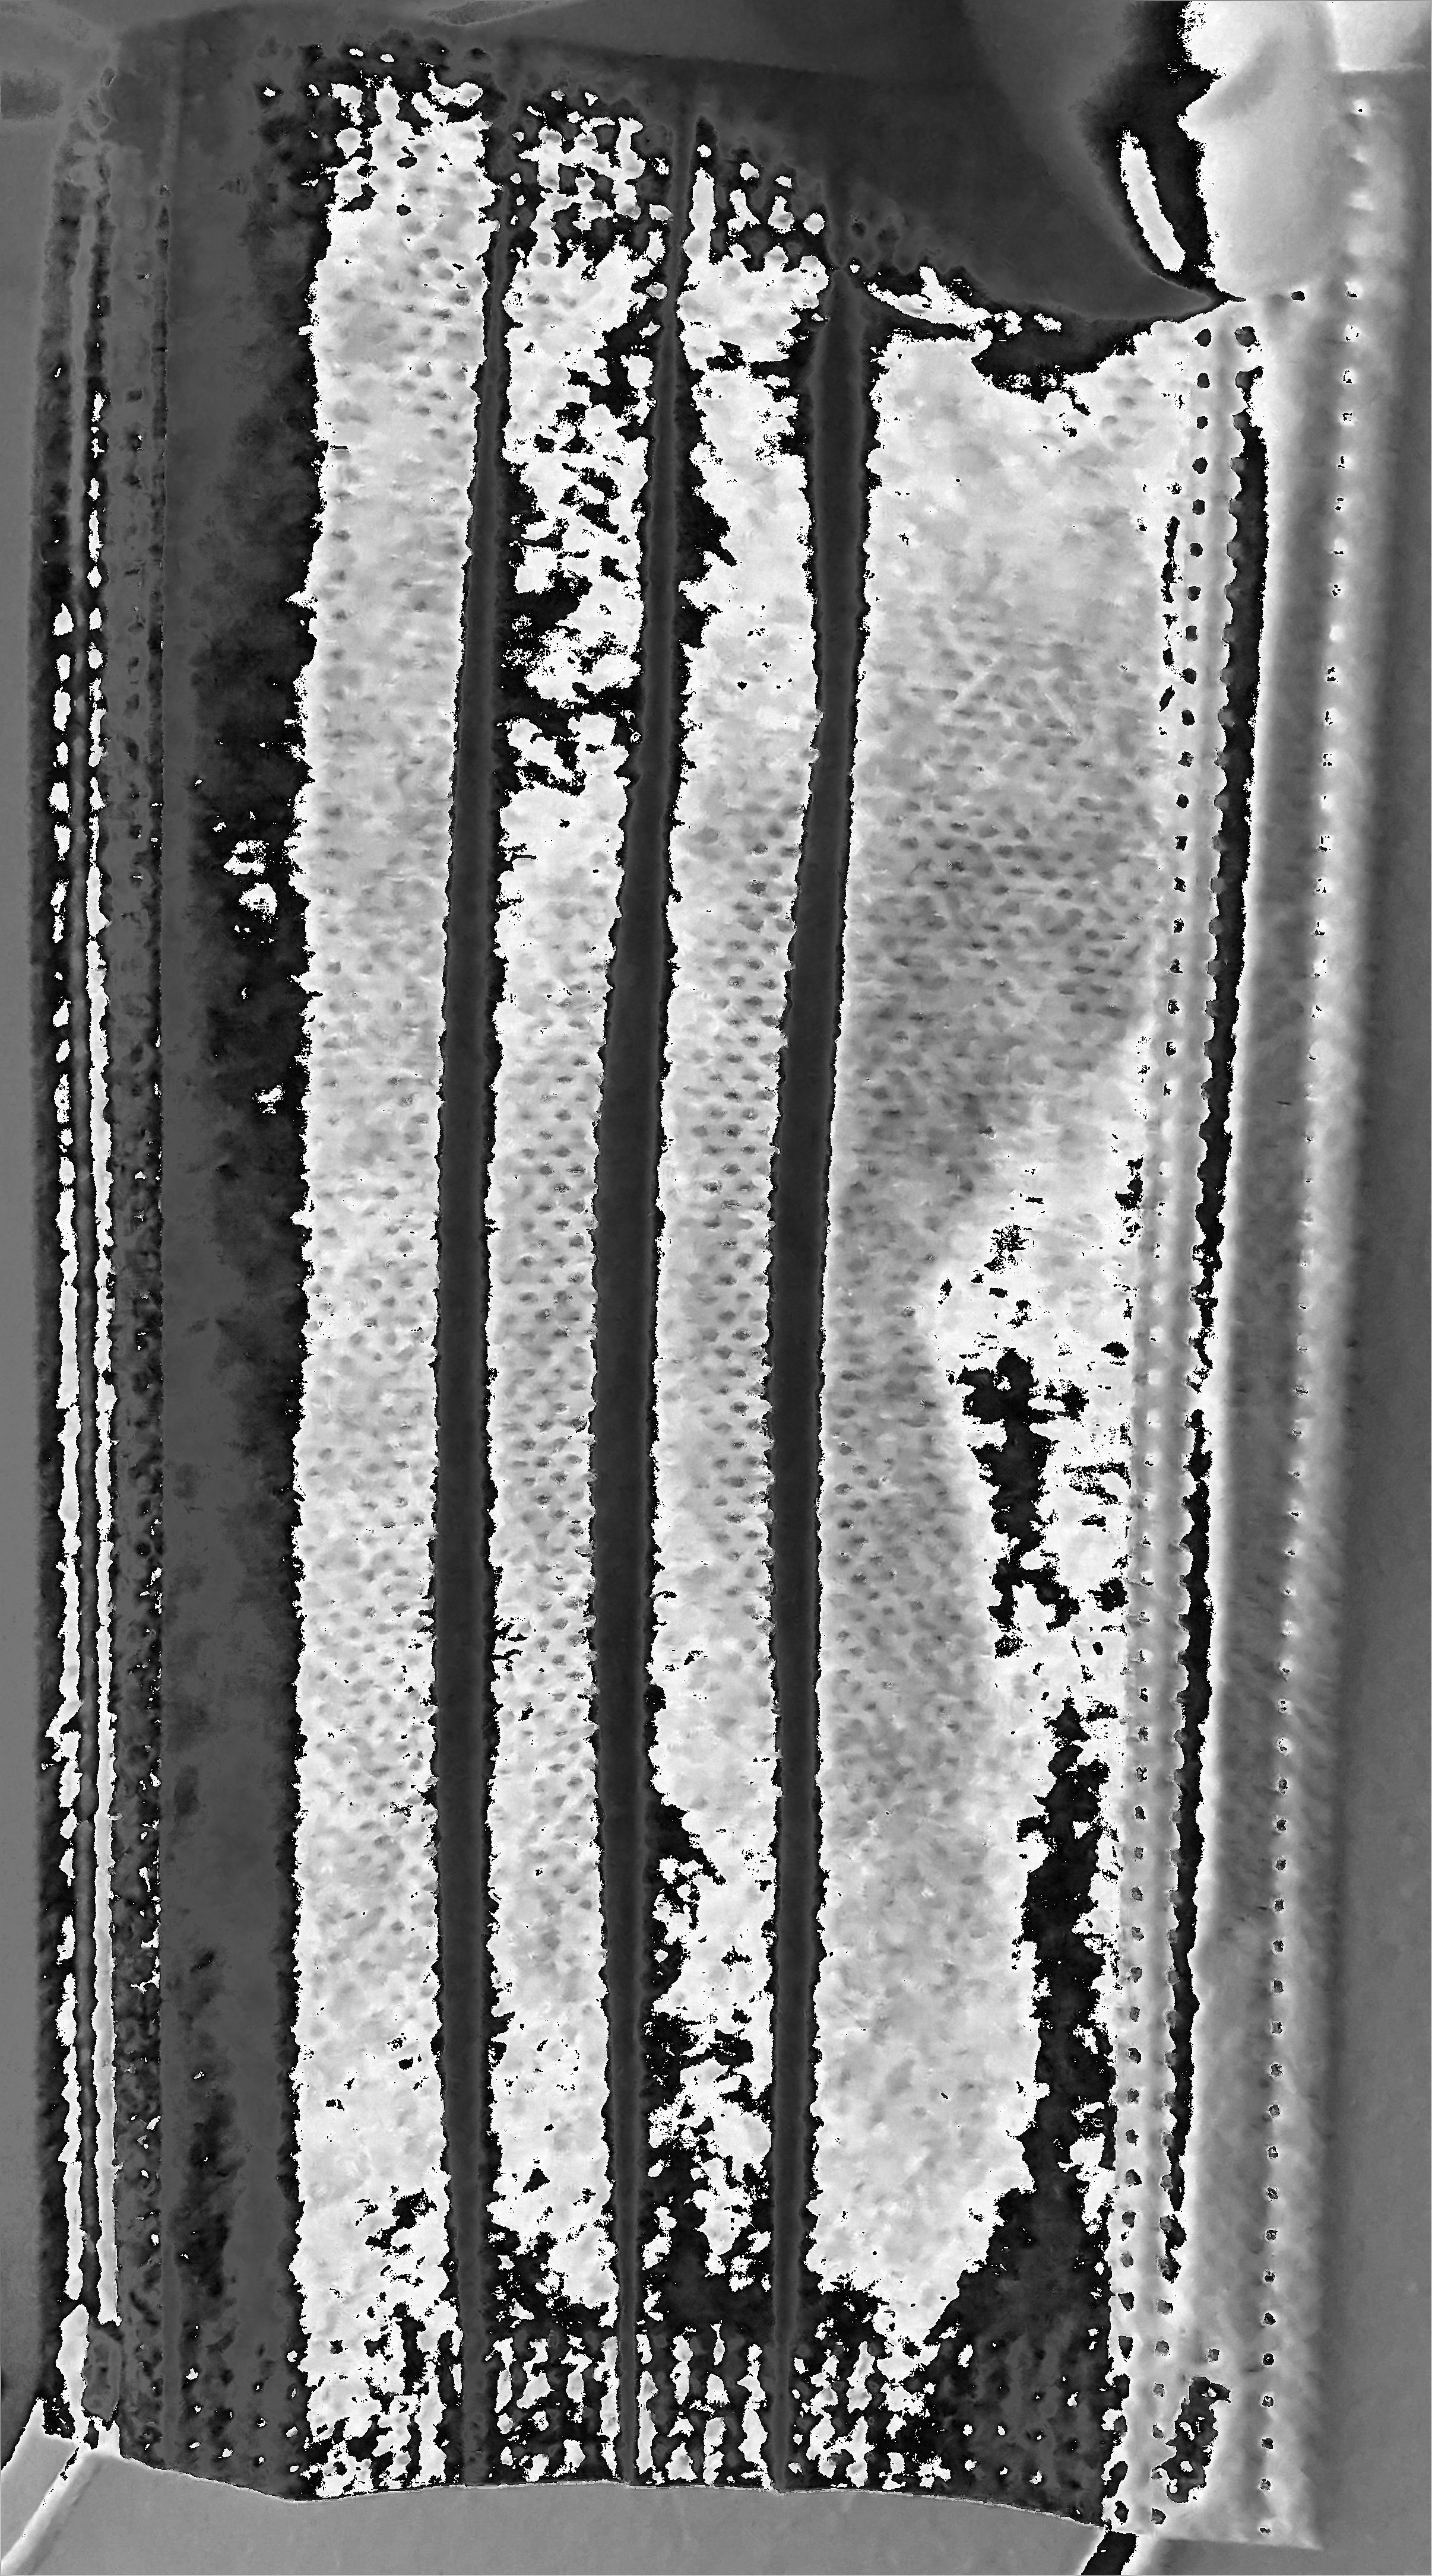Low GSM: (205, 351, 1157, 2308)
Undefined Area: (912, 0, 1367, 303)
